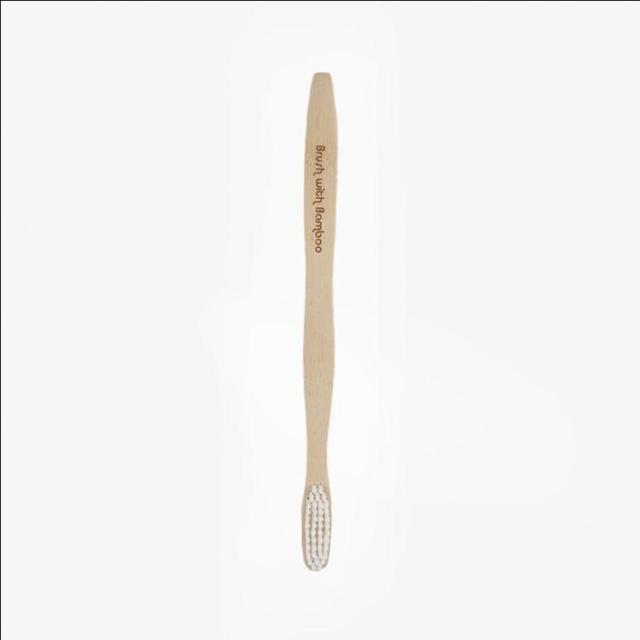toothbrush: (279, 44, 357, 592)
